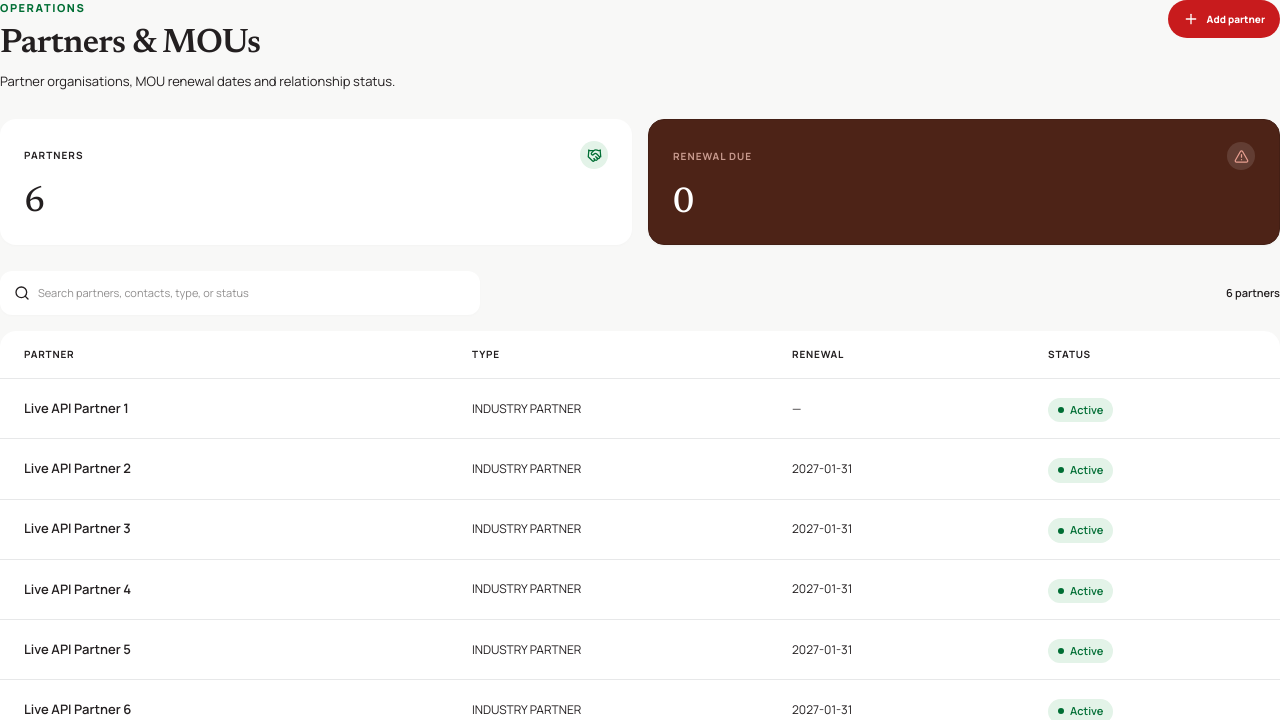
Test: PartnersMousPage › creates a partner through the API and refreshes the live overview
Expected: the text "Live API Partner 1" is shown, top-left (0, 379), bottom-right (448, 439)
Click the button "Add partner" at (1224, 19), box top-left (1168, 0), bottom-right (1279, 38)
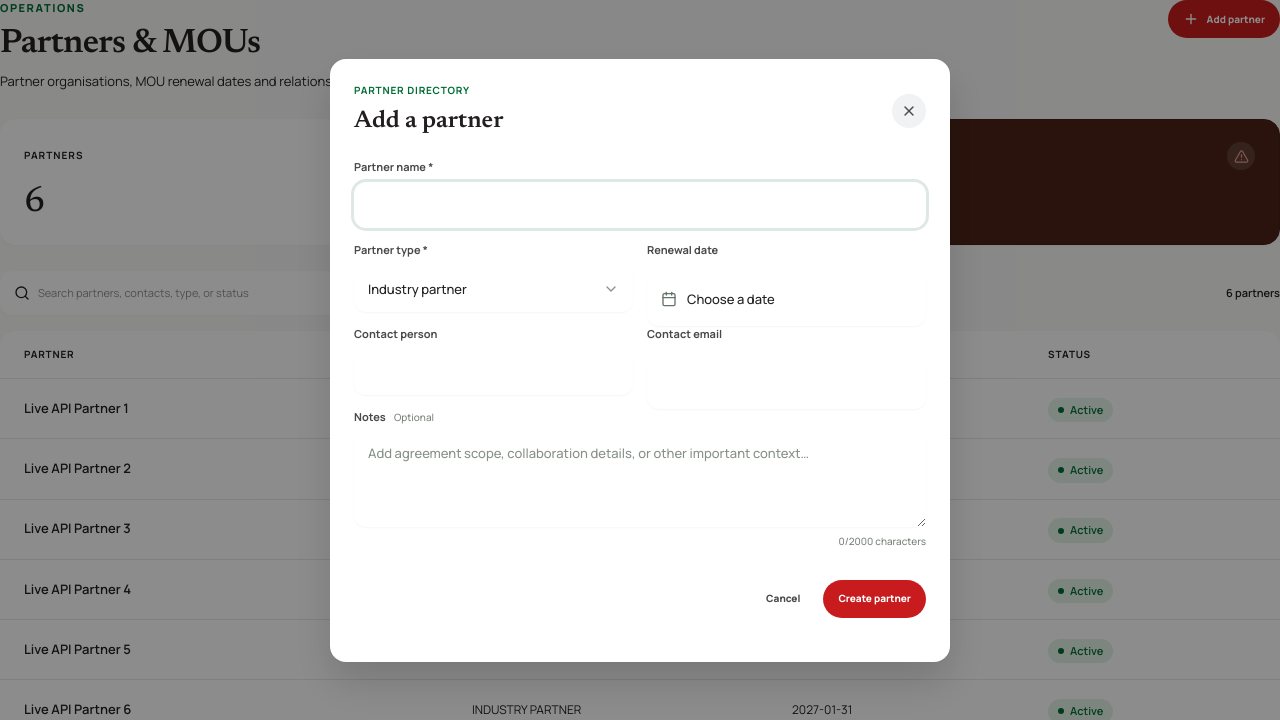
Type "New Test Partner" into the field labelled "Partner name *" at (640, 205), box top-left (354, 182), bottom-right (926, 228)
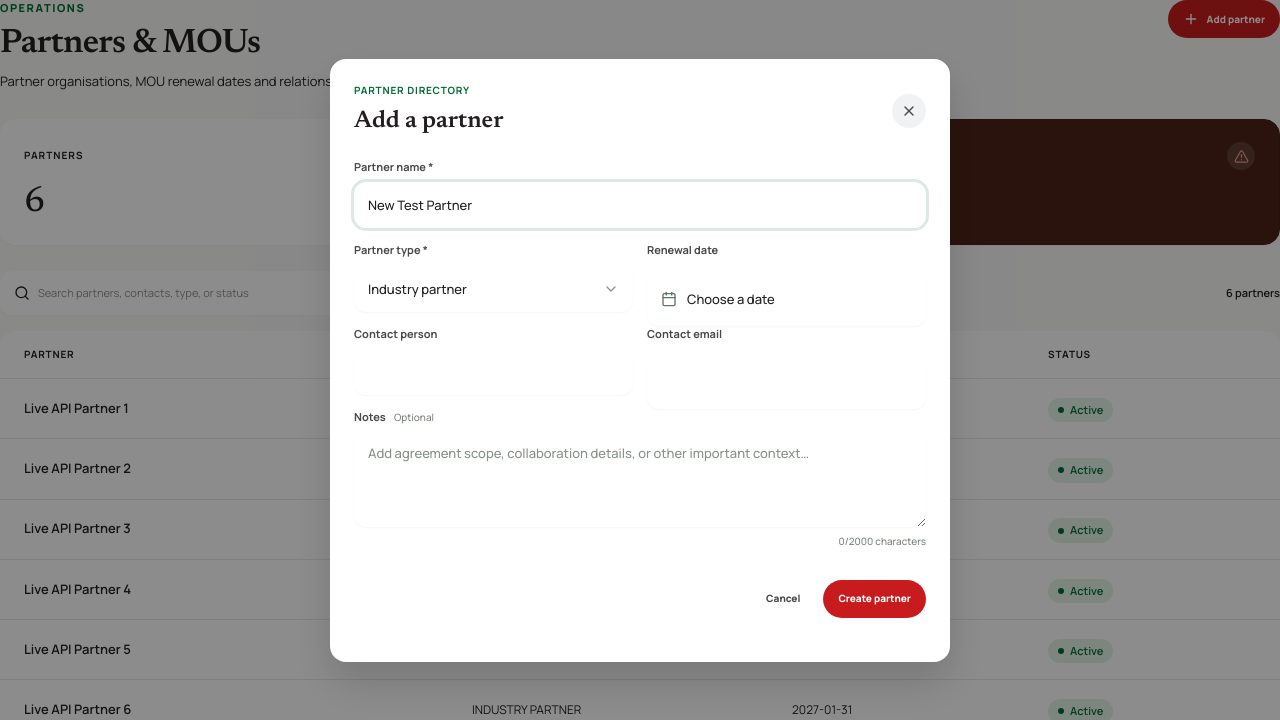
Click the button "Create partner" at (875, 598), box top-left (823, 580), bottom-right (926, 618)
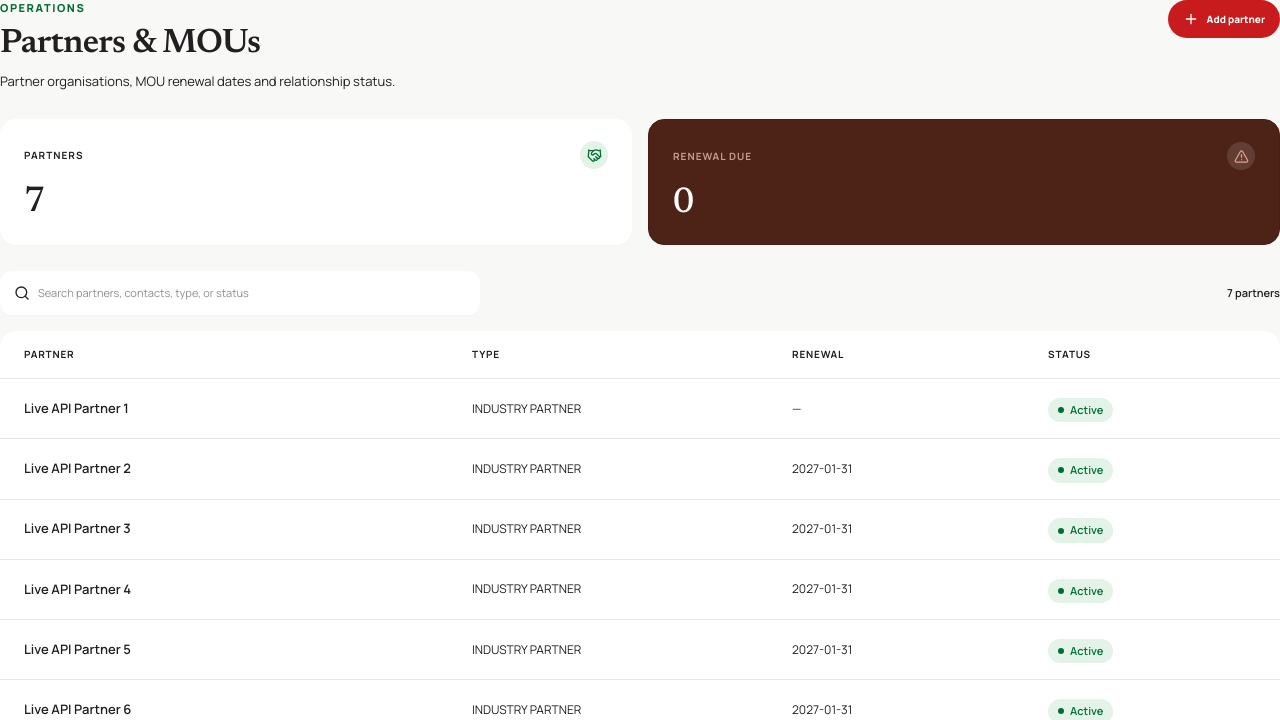
Now the text "7" is shown, box top-left (24, 185), bottom-right (45, 221)
